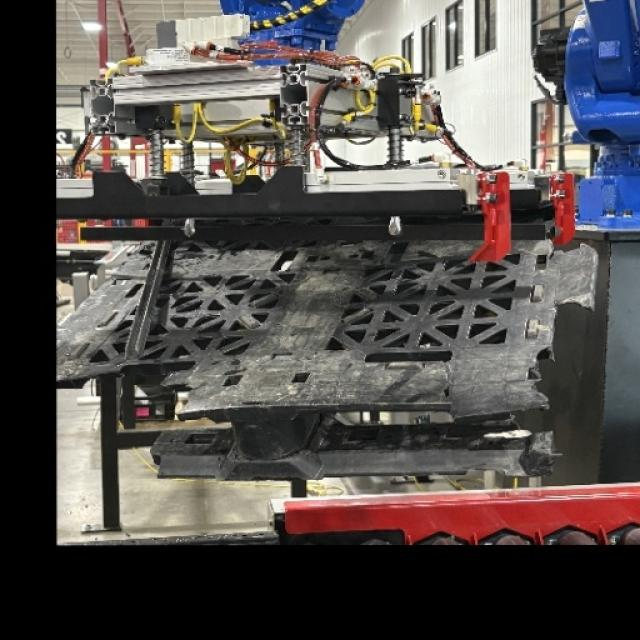igps: (52, 212, 610, 490)
